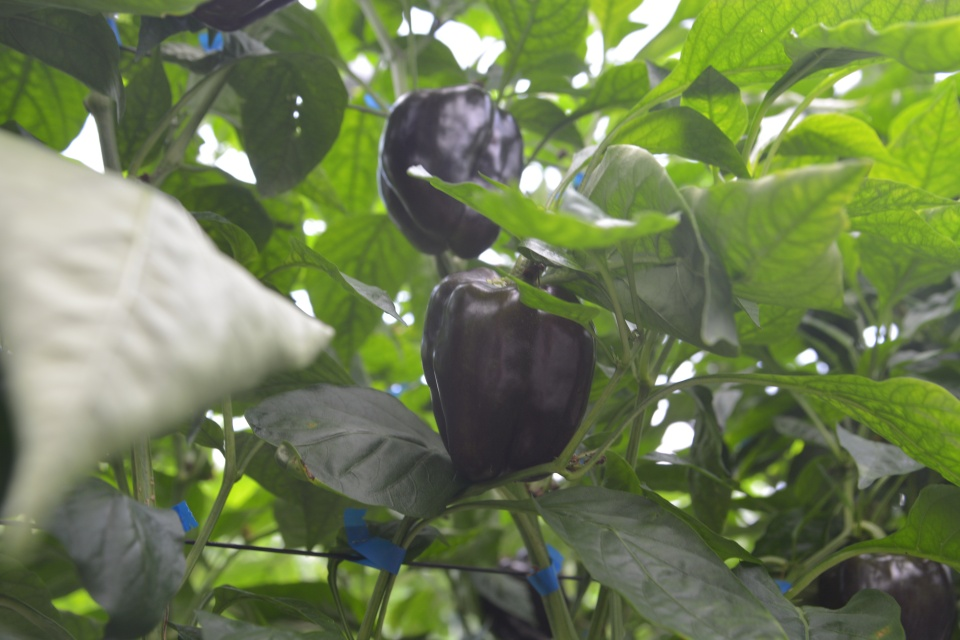fruit: (418, 264, 598, 487), (377, 82, 525, 260), (817, 531, 960, 640), (191, 0, 296, 32)
